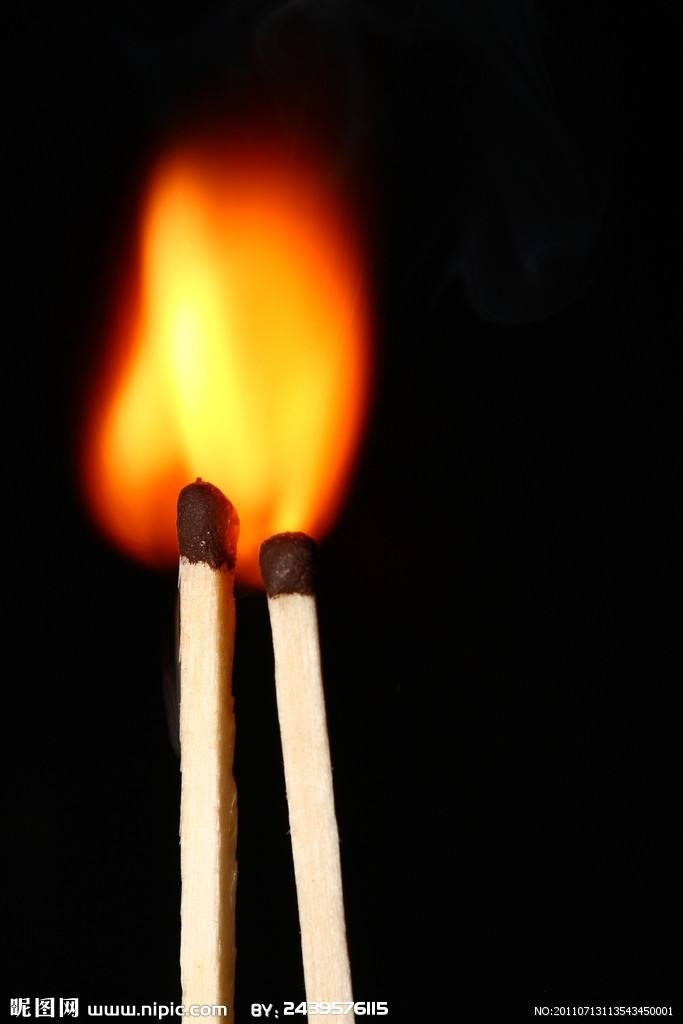fire: (88, 137, 376, 544)
